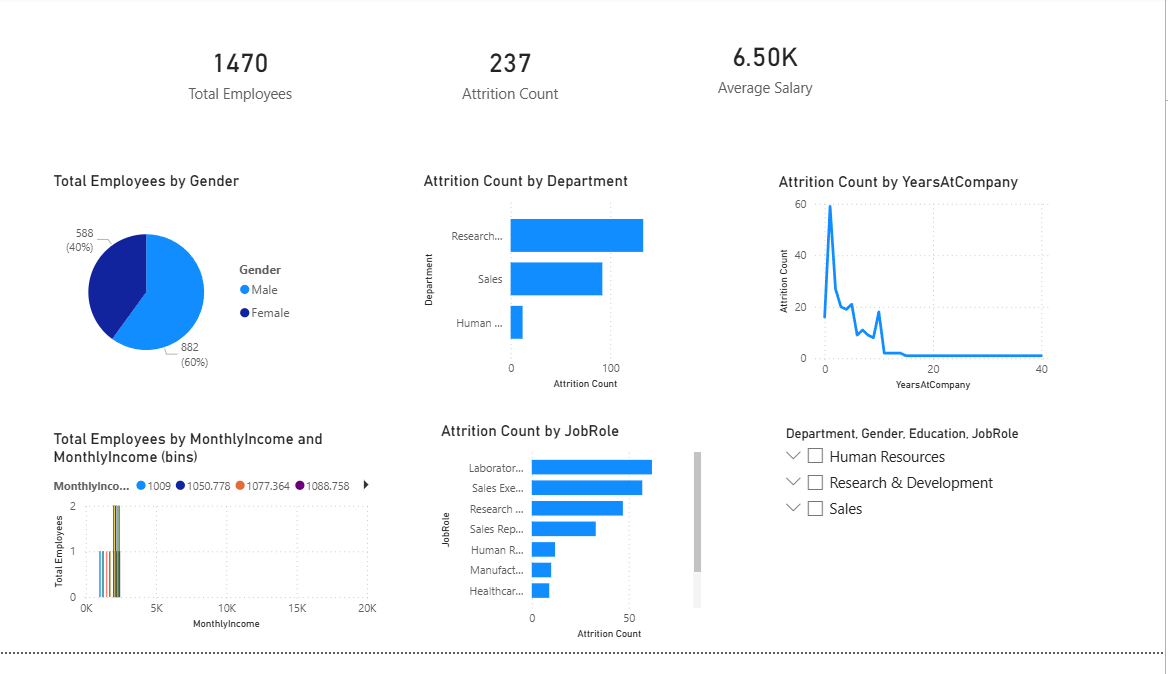

What the dashboard file says about the page in this screenshot:
{"tool":"powerbi","page":{"name":"Page 2","canvas":[1280,720],"ordinal":1},"visuals":[{"type":"card","fields":{"Values":["BaseMeasures.Total Employees"]},"box":[124.9,0,279.9,164.7],"z":0},{"type":"card","fields":{"Values":["BaseMeasures.Attrition Count"]},"box":[421.3,0,279.9,164.7],"z":1000},{"type":"card","fields":{"Values":["BaseMeasures.Average Salary"]},"box":[701.2,0,279.9,150.9],"z":2000},{"type":"pieChart","fields":{"Category":["IBM_HR_Employee_Attrition_Data.Gender"],"Y":["BaseMeasures.Total Employees"]},"box":[54.9,192.1,279.9,245.6],"z":3000},{"type":"barChart","fields":{"Category":["IBM_HR_Employee_Attrition_Data.Department"],"Y":["BaseMeasures.Attrition Count"]},"box":[461.1,192.1,279.9,244.3],"z":4000},{"type":"lineChart","fields":{"Y":["BaseMeasures.Attrition Count"],"Category":["IBM_HR_Employee_Attrition_Data.YearsAtCompany"]},"box":[850.8,193.5,308.7,244.3],"z":5000},{"type":"columnChart","fields":{"Y":["BaseMeasures.Total Employees"],"Category":["IBM_HR_Employee_Attrition_Data.MonthlyIncome"],"Series":["IBM_HR_Employee_Attrition_Data.MonthlyIncome (bins)"]},"box":[54.9,476.2,365,223.7],"z":6000},{"type":"barChart","fields":{"Category":["IBM_HR_Employee_Attrition_Data.JobRole"],"Y":["BaseMeasures.Attrition Count"]},"box":[480.3,466.6,295,244.3],"z":7000},{"type":"slicer","fields":{"Values":["IBM_HR_Employee_Attrition_Data.Department","IBM_HR_Employee_Attrition_Data.Gender","IBM_HR_Employee_Attrition_Data.Education","IBM_HR_Employee_Attrition_Data.JobRole"]},"box":[850.8,466.6,308.7,225],"z":8000}]}

Visuals, with their boxes in screenshot pixels (x1, y1, x2, y2), scaled from the page's 1280x720 canvas onto the 1168x674 screenshot:
card - BaseMeasures.Total Employees: [114,0,369,154]
card - BaseMeasures.Attrition Count: [384,0,640,154]
card - BaseMeasures.Average Salary: [640,0,895,141]
pieChart - IBM_HR_Employee_Attrition_Data.Gender x BaseMeasures.Total Employees: [50,180,306,410]
barChart - IBM_HR_Employee_Attrition_Data.Department x BaseMeasures.Attrition Count: [421,180,676,409]
lineChart - BaseMeasures.Attrition Count x IBM_HR_Employee_Attrition_Data.YearsAtCompany: [776,181,1058,410]
columnChart - BaseMeasures.Total Employees x IBM_HR_Employee_Attrition_Data.MonthlyIncome: [50,446,383,655]
barChart - IBM_HR_Employee_Attrition_Data.JobRole x BaseMeasures.Attrition Count: [438,437,707,665]
slicer - IBM_HR_Employee_Attrition_Data.Department x IBM_HR_Employee_Attrition_Data.Gender: [776,437,1058,647]
